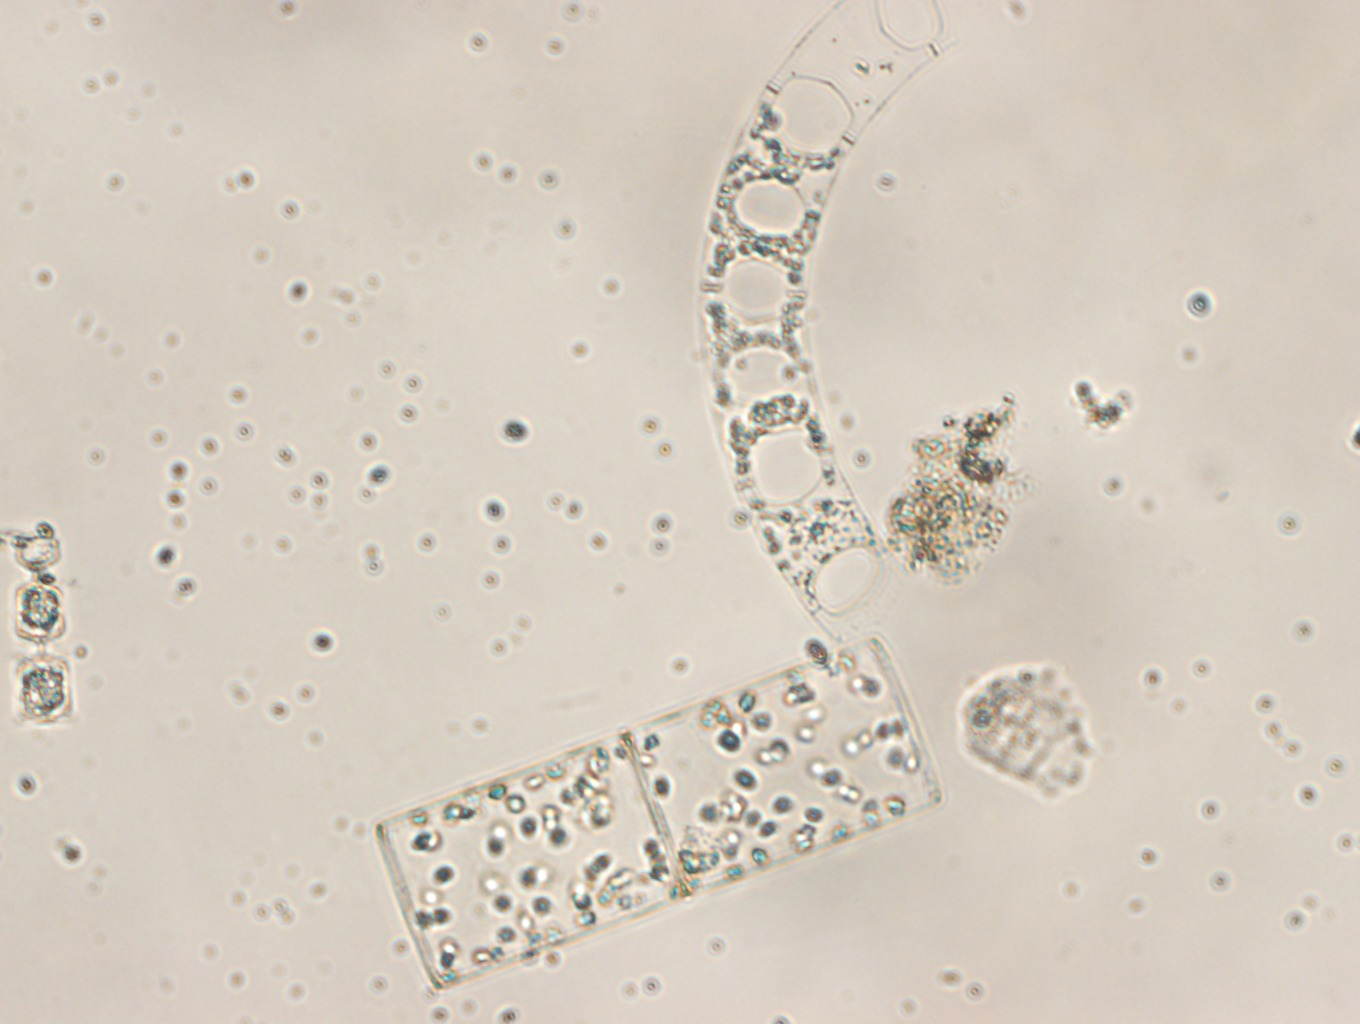chaetoceros: (2, 520, 74, 726)
eucampia: (695, 1, 959, 641)
guinardia flaccida: (376, 632, 940, 987)
